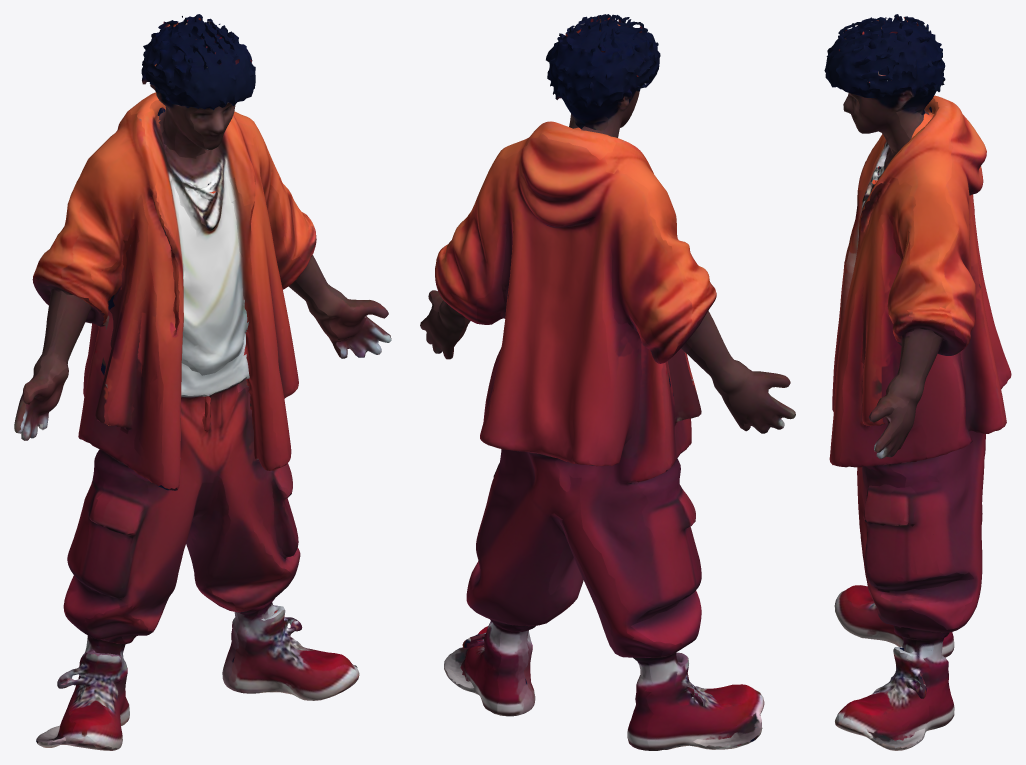
File: leadr-mesh.glb
3 views of the same model, side by side, from view 1: azimuth 30°, elevation 25°; view 2: azimuth 150°, elevation 25°; view 3: azimuth 270°, elevation 25° (orthographic). The views are drawn at different scales.
Visible parts, largest first — view 1: tmpqn31ikhc.ply; view 2: tmpqn31ikhc.ply; view 3: tmpqn31ikhc.ply.
Boxes of the visible parts, x1,y1,x2,y2 form: tmpqn31ikhc.ply: (14,14,391,750); tmpqn31ikhc.ply: (420,14,795,750); tmpqn31ikhc.ply: (824,14,1011,750).
Bounding box in the file's own units: 0.5581 × 0.9864 × 0.2507.
1 material, 1 textured.
